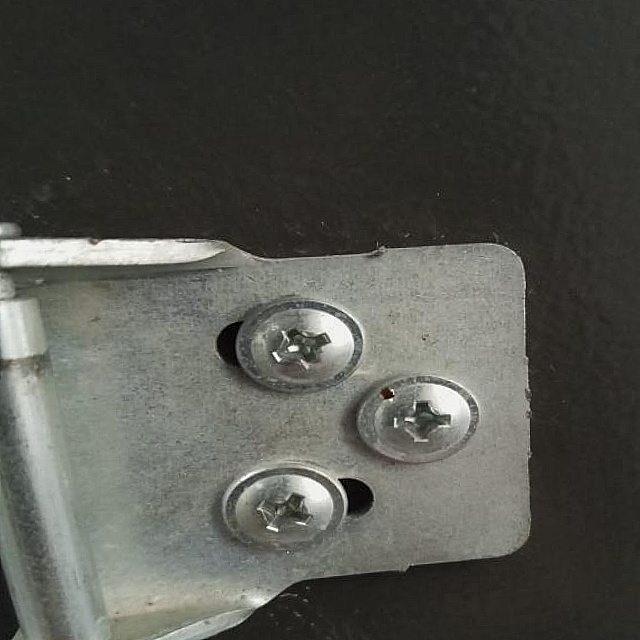phillips: (235, 294, 366, 396), (219, 458, 350, 553), (356, 371, 480, 468)
